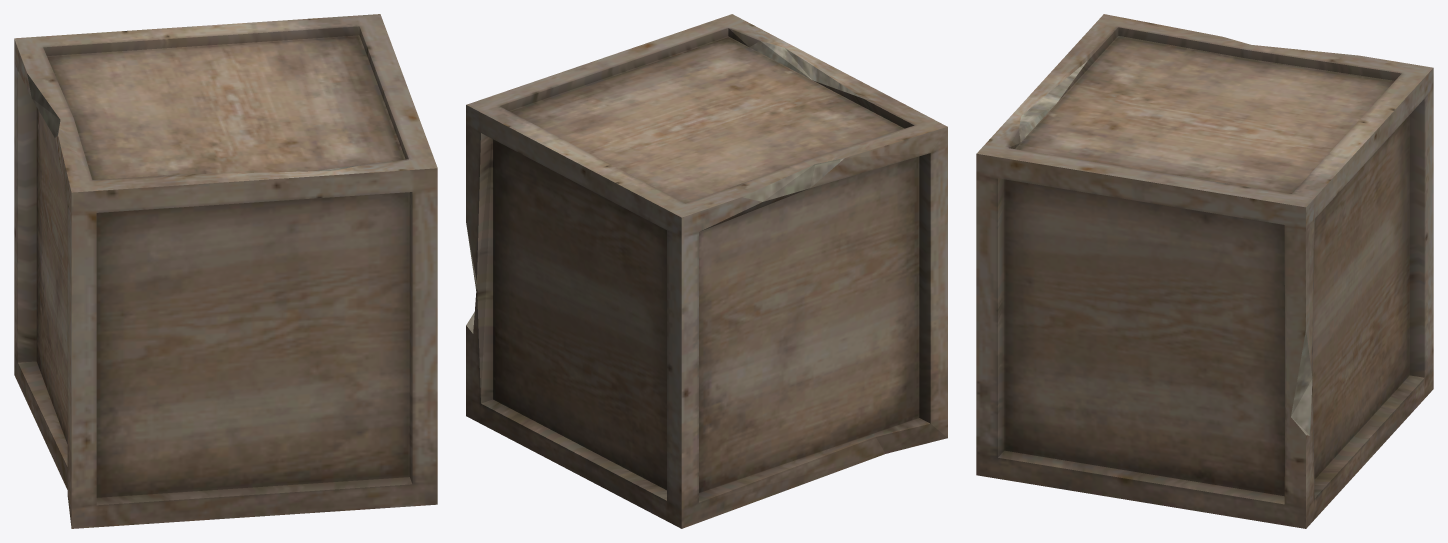
File: ItemSpot.fbx
The picture shows the model from 3 angles, left to right: view 1: azimuth 30°, elevation 25°; view 2: azimuth 150°, elevation 25°; view 3: azimuth 270°, elevation 25°; orthographic projection. The views are drawn at different scales.
Visible parts, largest first — view 1: ItemBox_Box_01; view 2: ItemBox_Box_01; view 3: ItemBox_Box_01.
Part boxes in pixels (x1=…): ItemBox_Box_01: x1=14, y1=14, x2=437, y2=528; ItemBox_Box_01: x1=466, y1=14, x2=947, y2=528; ItemBox_Box_01: x1=976, y1=14, x2=1433, y2=528.
Size of the model in its own units: 1.01 by 0.7859 by 1.01.
Materials: 1 (1 with a texture image).
